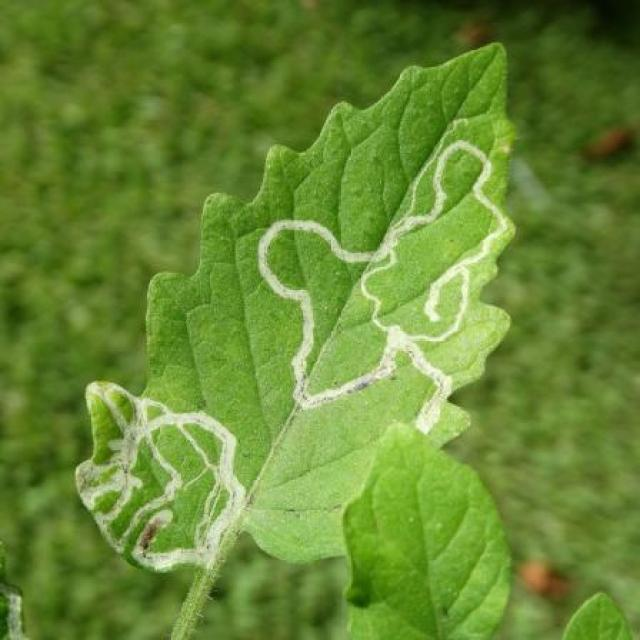Leaf Miner: (70, 38, 516, 573)
